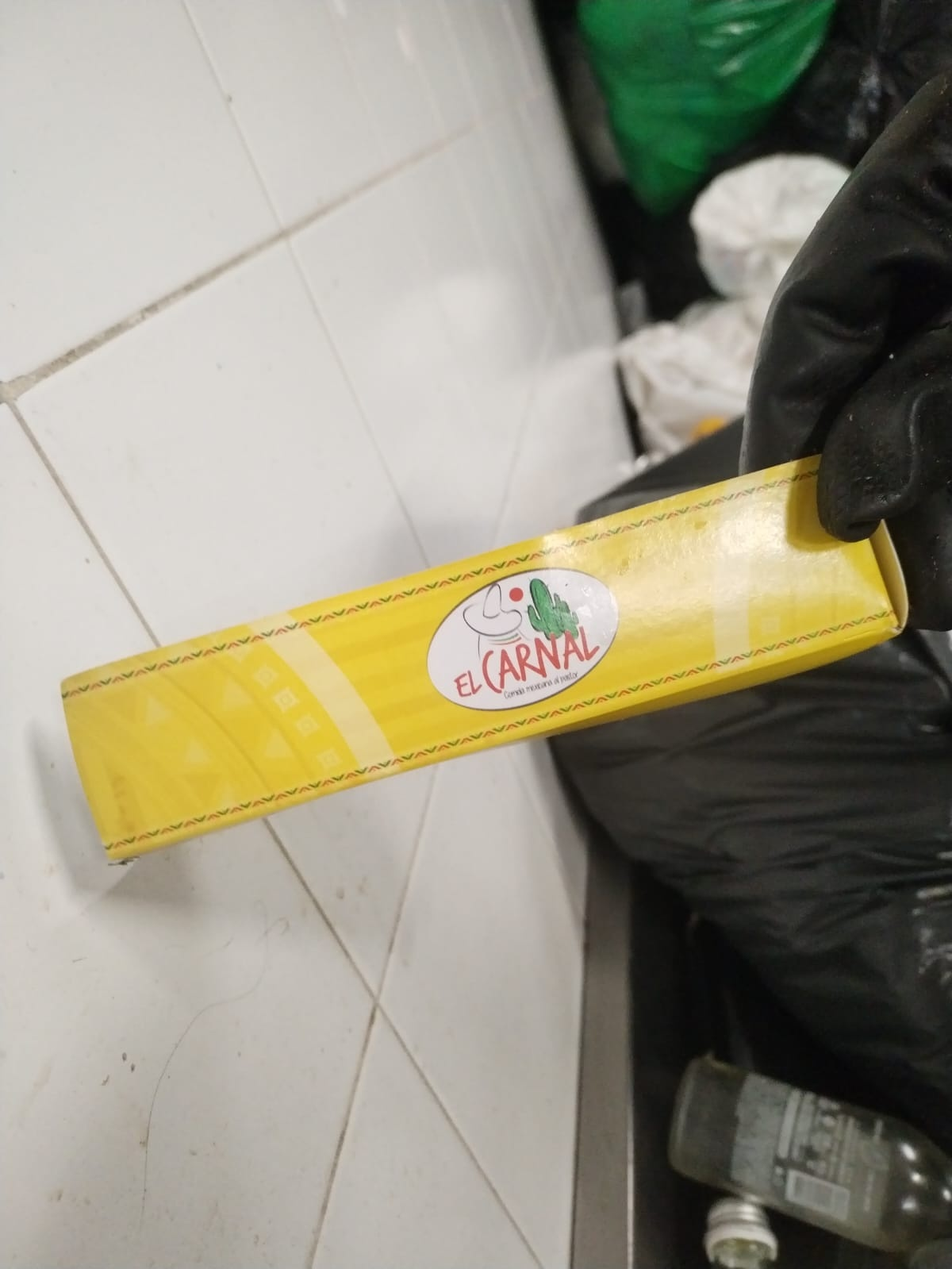Carton: (62, 451, 913, 864)
